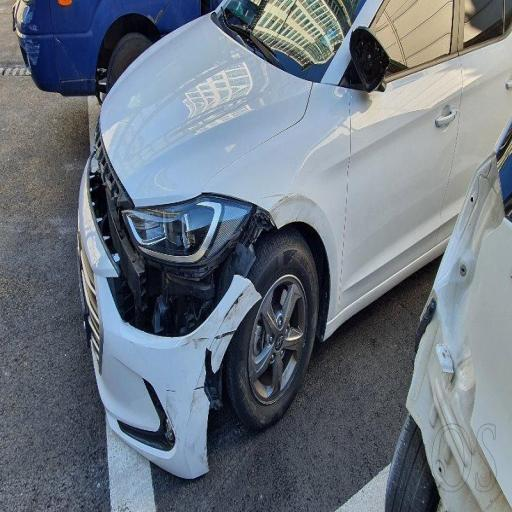broken: (111, 174, 326, 431), (150, 300, 208, 486)
